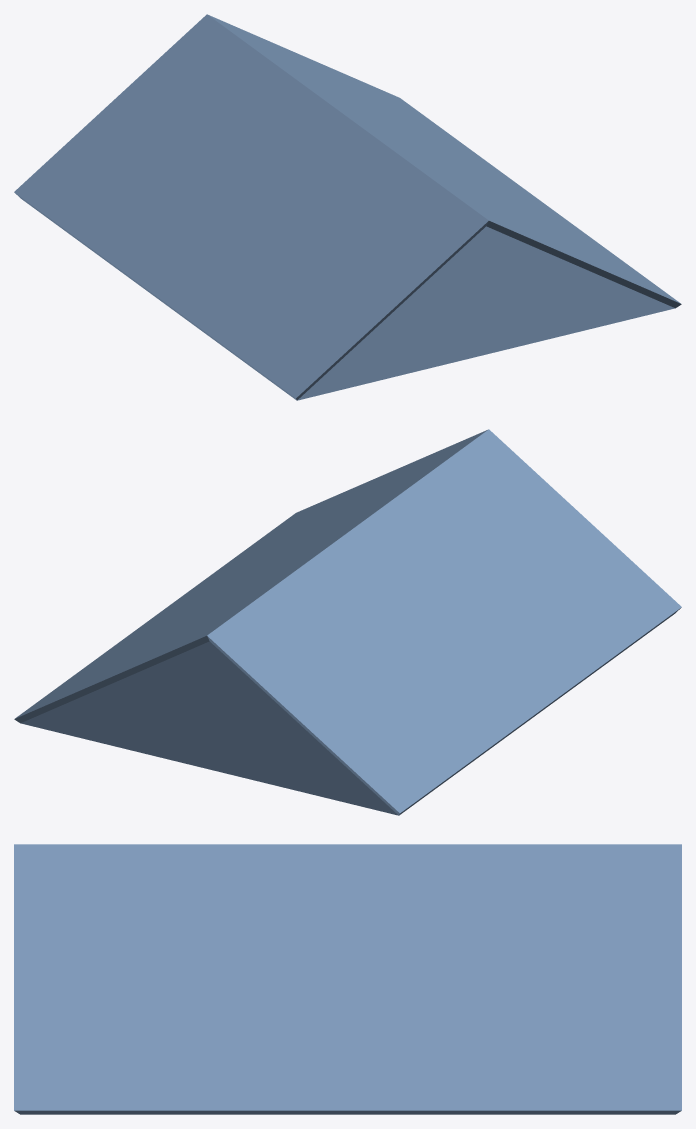
File: RoofMain.fbx
3 renders of one model, top to bottom at view 1: azimuth 30°, elevation 25°; view 2: azimuth 150°, elevation 25°; view 3: azimuth 270°, elevation 25°, orthographic. The views are drawn at different scales.
Visible parts, largest first — view 1: pCube9; view 2: pCube9; view 3: pCube9.
Part boxes in pixels (x1,y1,x2,y2): pCube9: (14,14,681,400); pCube9: (14,429,681,815); pCube9: (14,844,681,1114).
Size of the model in its own units: 49.96 by 16.81 by 63.21.
